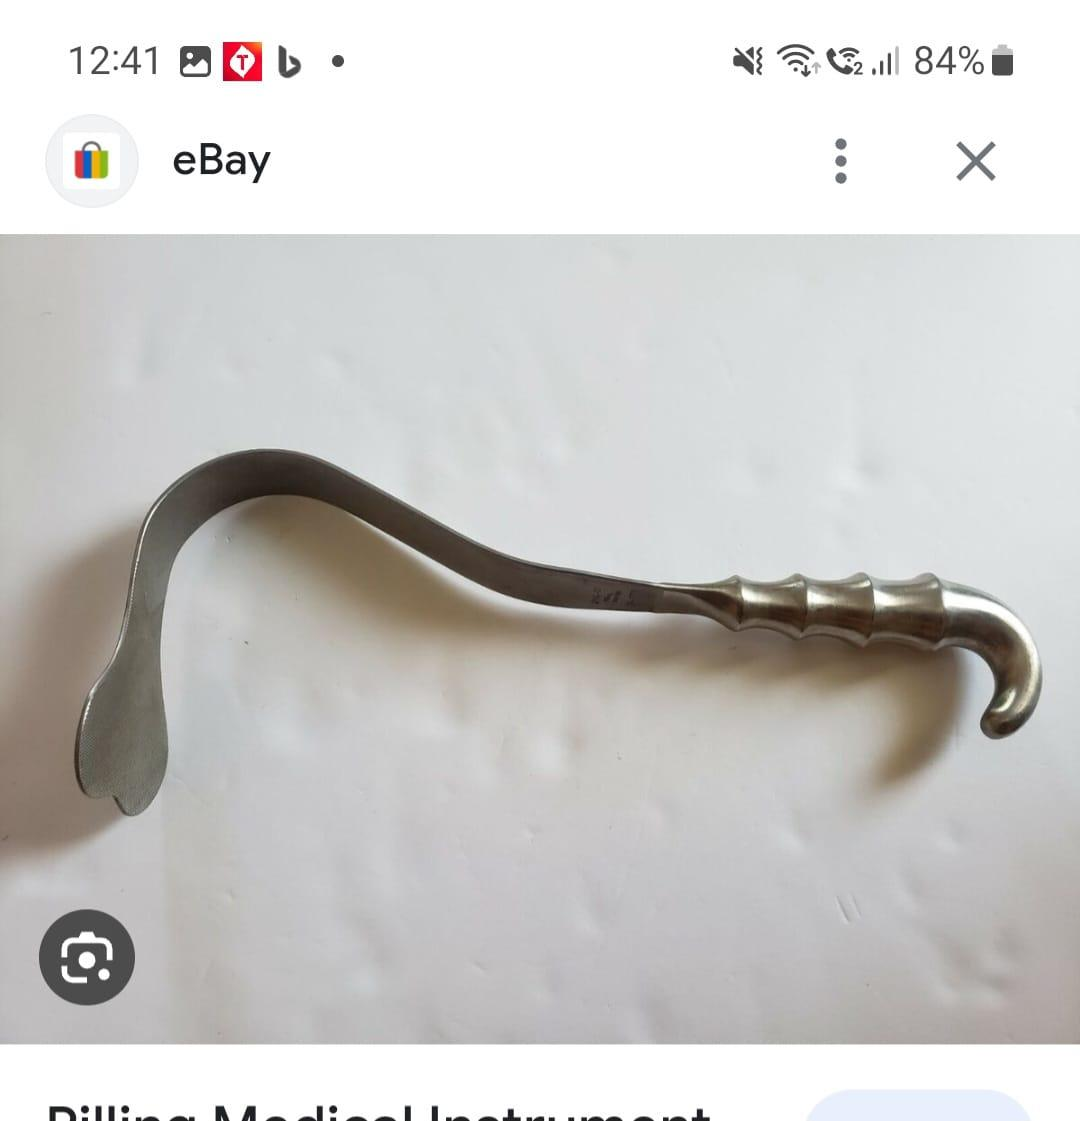Harrington Retractor: (65, 440, 1052, 832)
